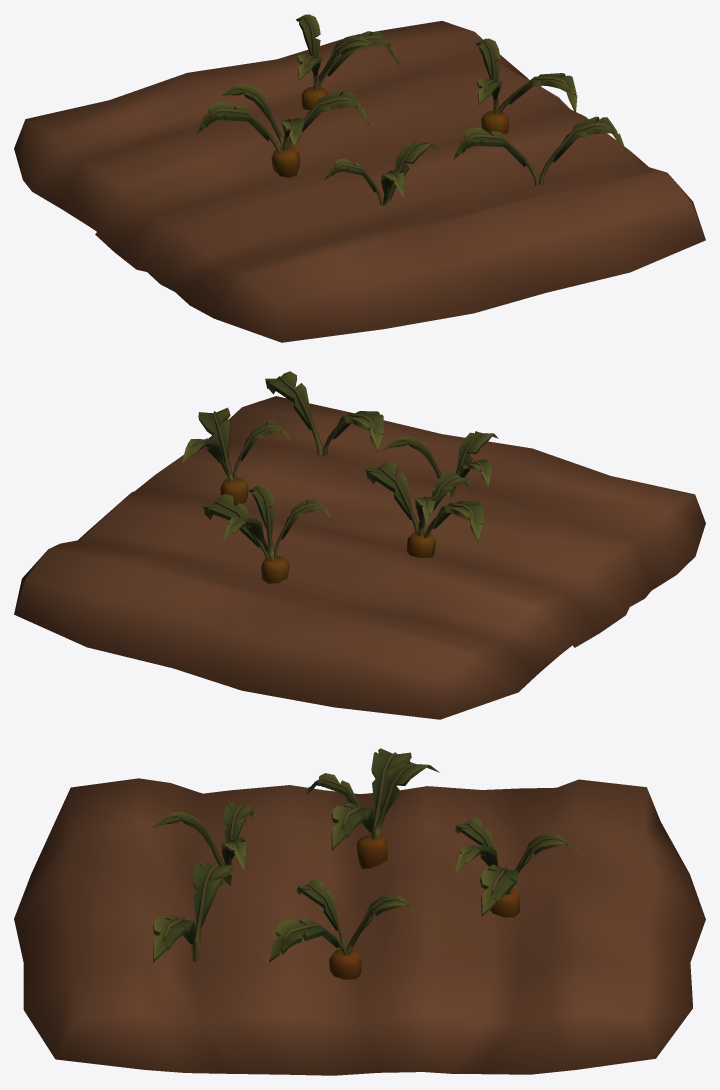
Rendered from SM_PlantSoil_Carrot_Dead.fbx.
3 renders of one model, top to bottom at view 1: azimuth 30°, elevation 25°; view 2: azimuth 150°, elevation 25°; view 3: azimuth 270°, elevation 25°, orthographic. The views are drawn at different scales.
Parts seen in each view (by area): view 1: SM_PlantSoil_Carrot_Dead; view 2: SM_PlantSoil_Carrot_Dead; view 3: SM_PlantSoil_Carrot_Dead.
Part boxes in pixels (left/top/right/bottom): SM_PlantSoil_Carrot_Dead: left=14, top=14, right=705, bottom=342; SM_PlantSoil_Carrot_Dead: left=14, top=371, right=705, bottom=719; SM_PlantSoil_Carrot_Dead: left=14, top=748, right=705, bottom=1075.
Bounding box in the file's own units: 96.14 × 23.63 × 103.
